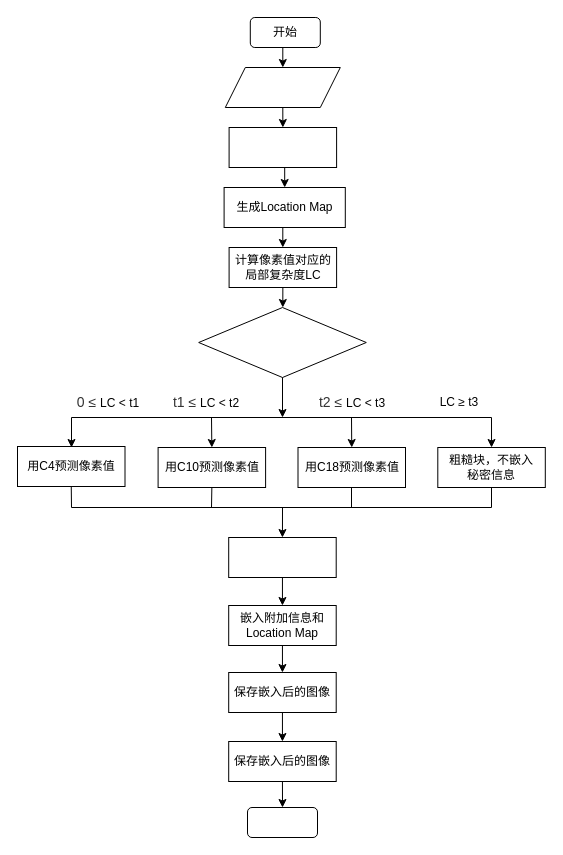
The diagram is 563 pixels wide and 855 high, and some of its shapes have lost their labels. Each missing label, with the centre of its shape:
"定义常用参数" goes at point 282,147.
"对比LC与阈值t1、t2、t3 的关系" goes at point 282,342.
"结束" goes at point 282,822.
"读取图像数据" goes at point 282,87.
"采用PPVO中嵌入算法嵌入秘密信息" goes at point 282,557.
